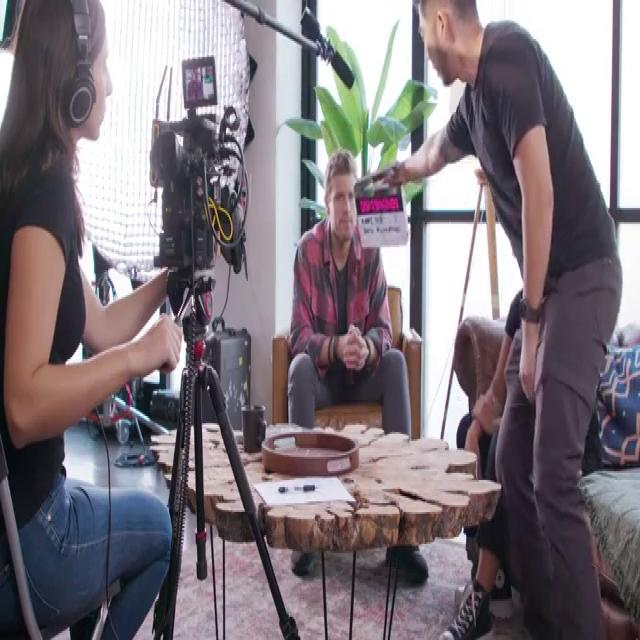Clapperboard: (351, 158, 409, 252)
